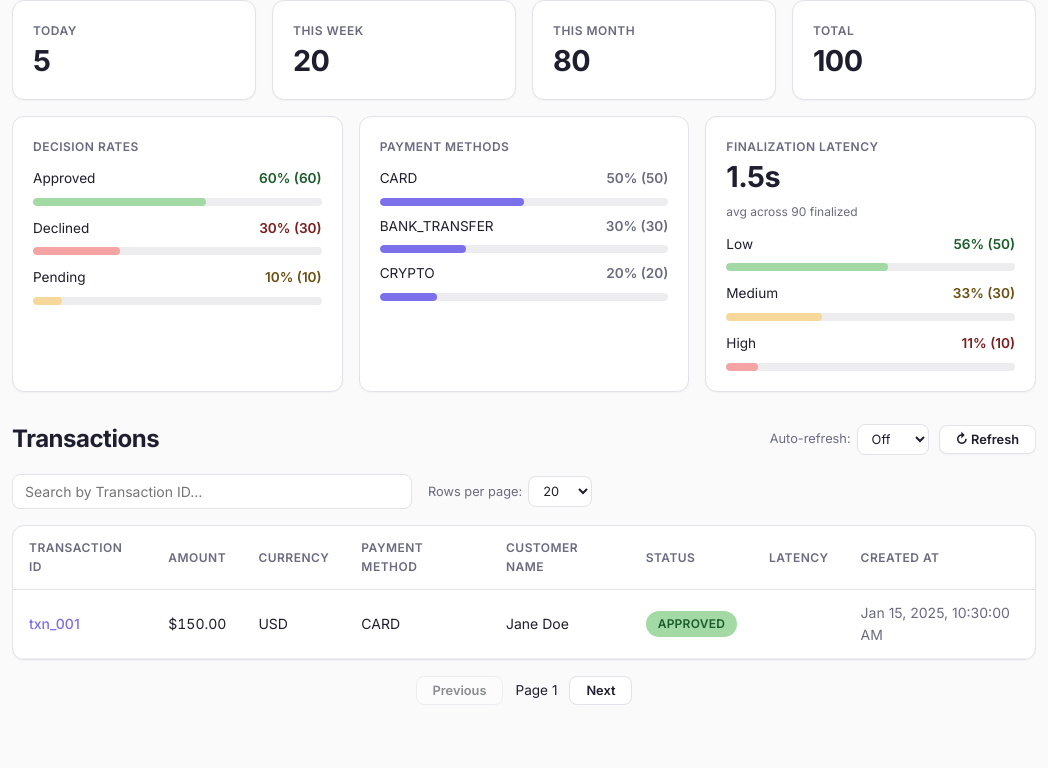
it: TransactionList › navigates to next page when Next button is clicked
This screenshot has width=1048, height=768.
expect the link "txn_001" is shown: met, box [29,615,80,632]
Click the button with aria-label "Next page". click: (601, 691)
box: [569,676,632,706]
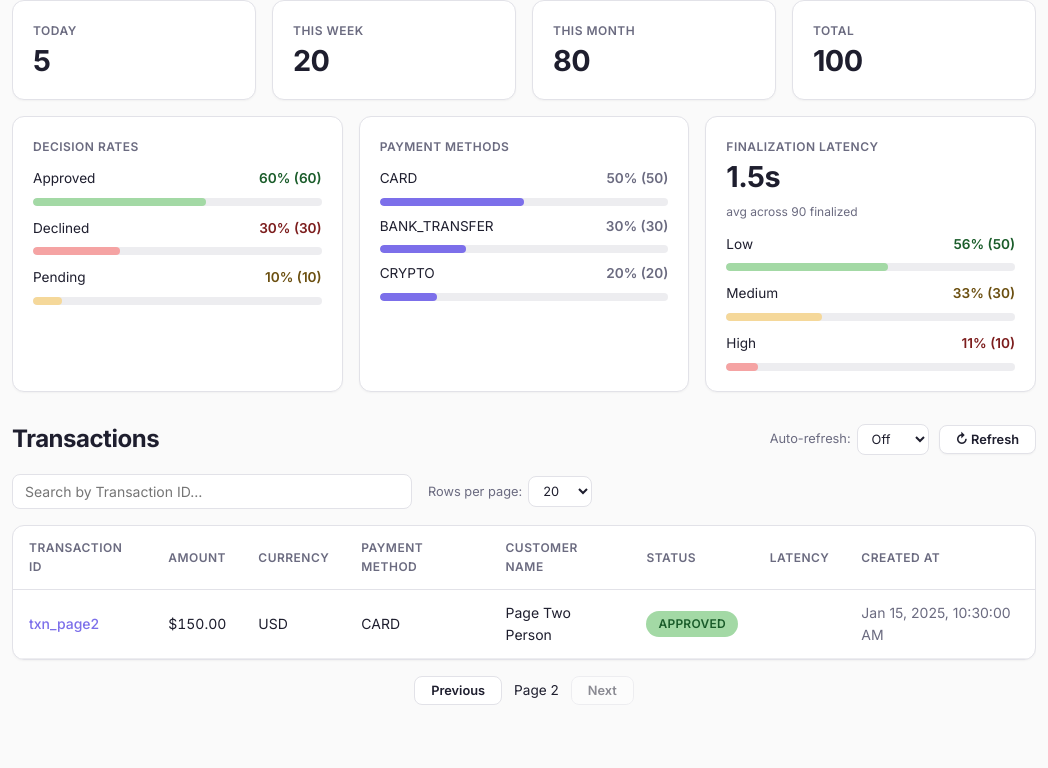
expect the link "txn_page2" is shown: met, box [29,615,99,632]
expect the text "Page 2" is shown: met, box [514,680,559,702]
expect the link "txn_001" is gone: met
